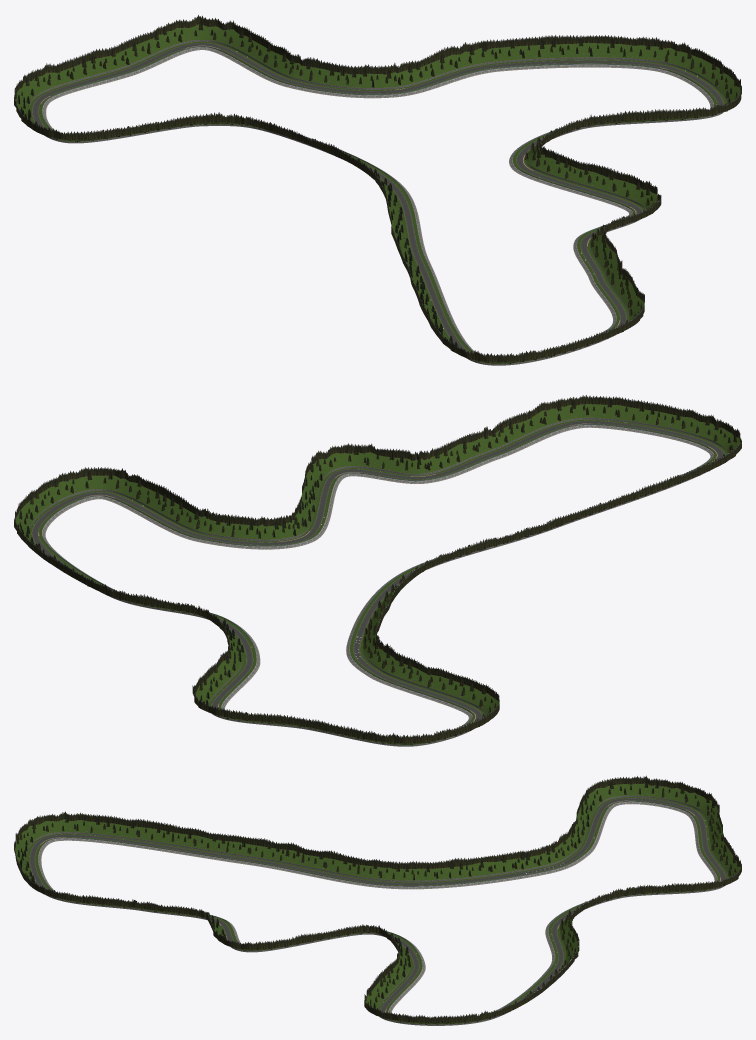
The picture shows the model from 3 angles, top to bottom: view 1: azimuth 30°, elevation 25°; view 2: azimuth 150°, elevation 25°; view 3: azimuth 270°, elevation 25°; orthographic projection. The views are drawn at different scales.
Parts seen in each view (by area): view 1: RaceTrack_Main, RaceTrack_Trees; view 2: RaceTrack_Main, RaceTrack_Trees; view 3: RaceTrack_Main, RaceTrack_Trees.
Part boxes in pixels (left/top/right/bottom): RaceTrack_Main: left=14, top=15, right=741, bottom=365; RaceTrack_Trees: left=17, top=21, right=737, bottom=363; RaceTrack_Main: left=14, top=395, right=741, bottom=746; RaceTrack_Trees: left=17, top=398, right=736, bottom=745; RaceTrack_Main: left=14, top=775, right=741, bottom=1025; RaceTrack_Trees: left=16, top=780, right=739, bottom=1024.
Bounding box in the file's own units: 980 × 35.94 × 1260.
